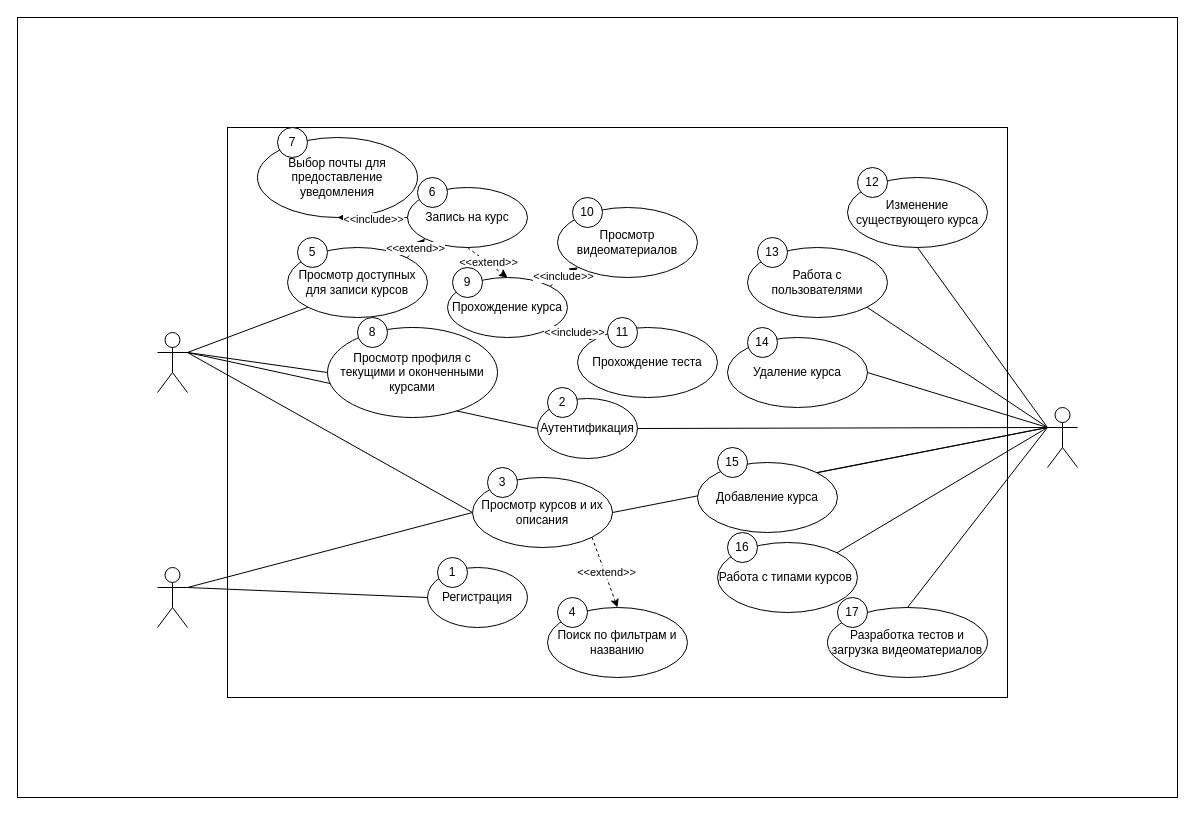
The diagram is 1195 pixels wide and 815 high, and some of its shapes have lost their labels. Here are the shapes that lost their labels. From the top down, the centre of each, then its label:
At point 172,362: "Клиент".
At point 1062,437: "Администратор".
At point 172,597: "Гость".
